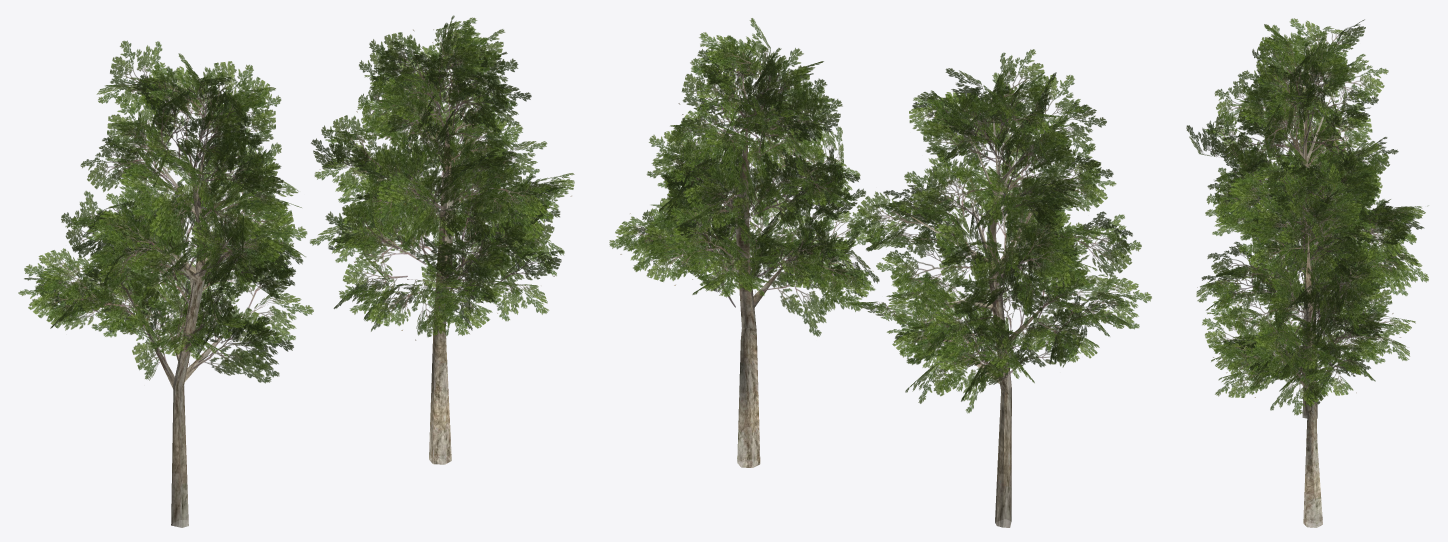
File: tree.glb
The picture shows the model from 3 angles, left to right: view 1: azimuth 30°, elevation 25°; view 2: azimuth 150°, elevation 25°; view 3: azimuth 270°, elevation 25°; orthographic projection. The views are drawn at different scales.
Visible parts, largest first — view 1: Tree 1_Tree 1_0; view 2: Tree 1_Tree 1_0; view 3: Tree 1_Tree 1_0.
Part boxes in pixels (x1,y1,x2,y2): Tree 1_Tree 1_0: (18, 15, 574, 527); Tree 1_Tree 1_0: (609, 18, 1151, 527); Tree 1_Tree 1_0: (1186, 18, 1428, 527).
Size of the model in its own units: 10.73 by 8.99 by 5.22.
Materials: 1 (1 with a texture image).
